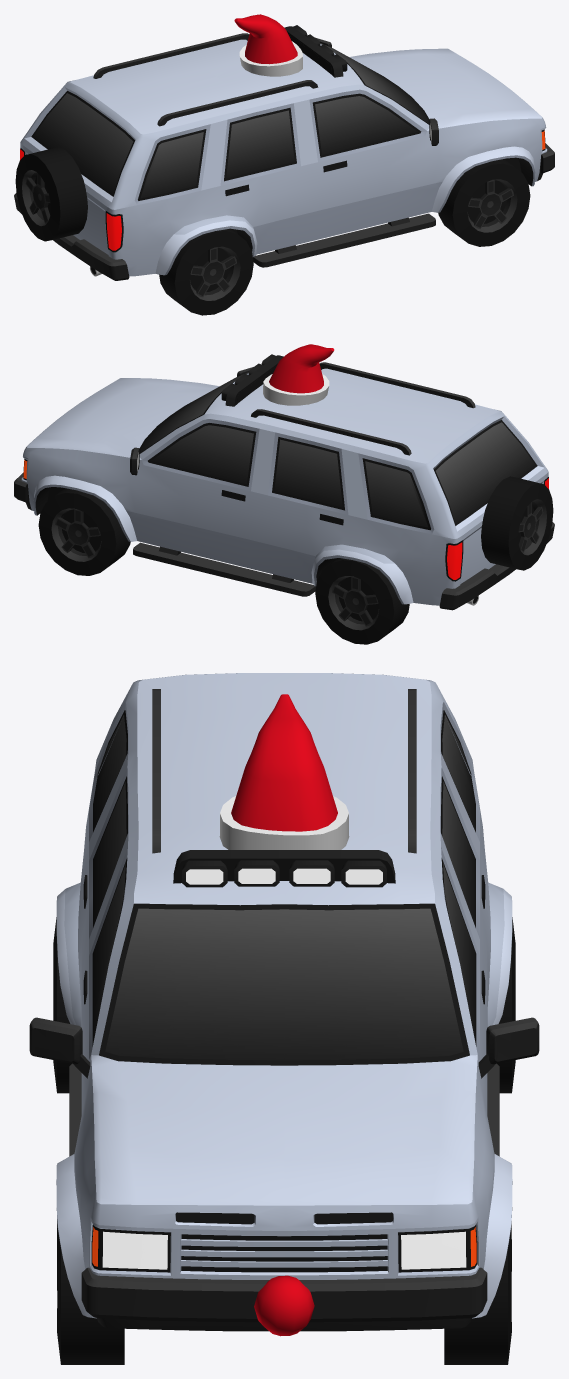
The model's file is Emergency_012.glb.
3 views of the same model, one above another, from view 1: azimuth 30°, elevation 25°; view 2: azimuth 150°, elevation 25°; view 3: azimuth 270°, elevation 25° (orthographic). The views are drawn at different scales.
Parts seen in each view (by area): view 1: Emergency_012, wheel_3_Emergency_012_Wheel_2R, wheel_1_Emergency_012_Wheel_1R; view 2: Emergency_012, wheel_2_Emergency_012_Wheel_2L, wheel_0_Emergency_012_Wheel_1L; view 3: Emergency_012, wheel_1_Emergency_012_Wheel_1R, wheel_0_Emergency_012_Wheel_1L, wheel_3_Emergency_012_Wheel_2R, wheel_2_Emergency_012_Wheel_2L.
Part boxes in pixels (x1,y1,x2,y2): Emergency_012: [14, 14, 554, 280]; wheel_3_Emergency_012_Wheel_2R: [159, 228, 253, 315]; wheel_1_Emergency_012_Wheel_1R: [438, 159, 530, 246]; Emergency_012: [14, 344, 554, 610]; wheel_2_Emergency_012_Wheel_2L: [315, 558, 409, 644]; wheel_0_Emergency_012_Wheel_1L: [38, 488, 130, 575]; Emergency_012: [29, 673, 539, 1336]; wheel_1_Emergency_012_Wheel_1R: [57, 1218, 124, 1364]; wheel_0_Emergency_012_Wheel_1L: [444, 1224, 511, 1364]; wheel_3_Emergency_012_Wheel_2R: [53, 917, 71, 1093]; wheel_2_Emergency_012_Wheel_2L: [497, 917, 515, 1093].
Bounding box in the file's own units: 4.82 × 2.21 × 2.18.
Materials: 2 (2 with a texture image).
